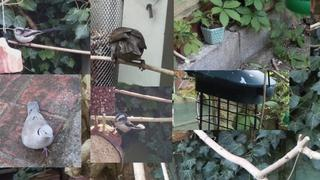collared dove: (21, 101, 55, 158)
long tailed tit: (12, 27, 64, 47), (111, 113, 146, 137)
starling: (110, 27, 147, 72)
